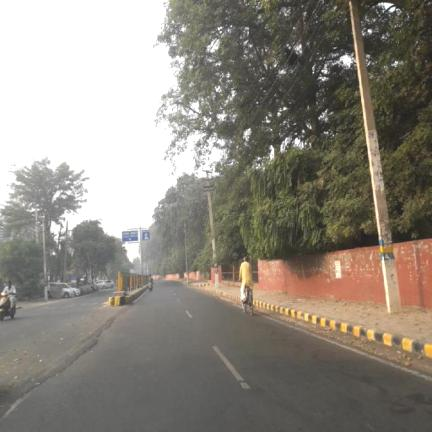Road: (0, 282, 431, 431)
